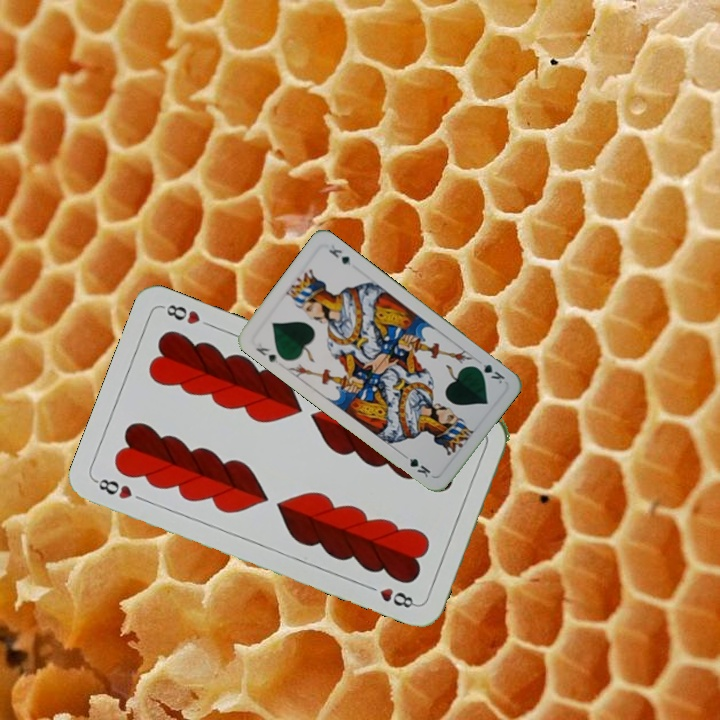GK: (470, 359, 508, 386), (251, 339, 282, 366)
H8: (91, 474, 135, 502)
